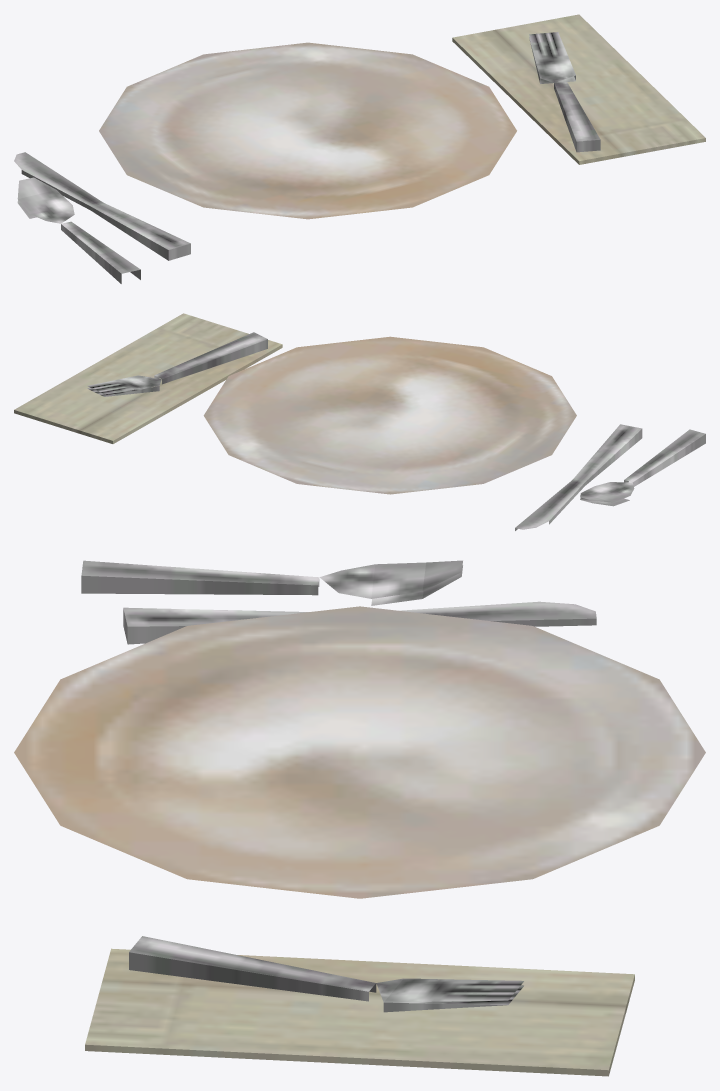
The model's file is placesetting1.fbx.
3 views of the same model, one above another, from view 1: azimuth 30°, elevation 25°; view 2: azimuth 150°, elevation 25°; view 3: azimuth 270°, elevation 25° (orthographic). The views are drawn at different scales.
Parts seen in each view (by area): view 1: mesh_0; view 2: mesh_0; view 3: mesh_0.
Part boxes in pixels (x1=…): mesh_0: x1=14, y1=14, x2=705, y2=283; mesh_0: x1=14, y1=313, x2=705, y2=530; mesh_0: x1=14, y1=560, x2=705, y2=1076.
Size of the model in its own units: 63.02 by 2.66 by 36.83.
1 material, 1 textured.
